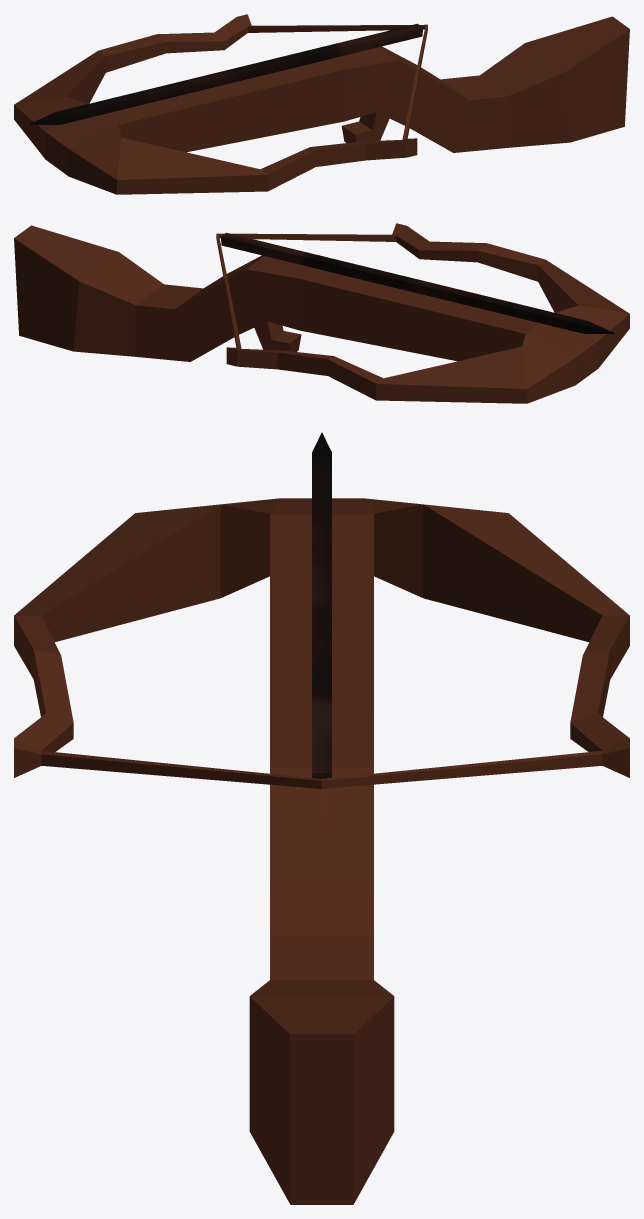
File: gun.fbx
3 views of the same model, one above another, from view 1: azimuth 30°, elevation 25°; view 2: azimuth 150°, elevation 25°; view 3: azimuth 270°, elevation 25° (orthographic). The views are drawn at different scales.
Parts seen in each view (by area): view 1: Cube.015; view 2: Cube.015; view 3: Cube.015.
Part boxes in pixels (<box>): Cube.015: <box>14,14,629,194</box>; Cube.015: <box>14,223,629,403</box>; Cube.015: <box>14,432,629,1204</box>.
Bounding box in the file's own units: 35.52 × 8.18 × 17.65.
